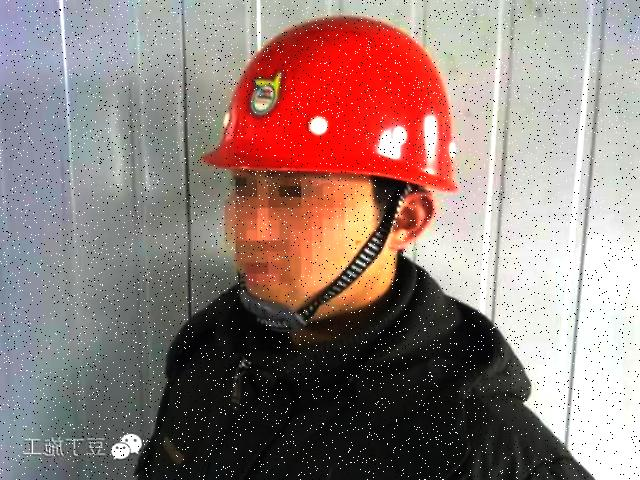Helmet: (196, 6, 471, 199)
